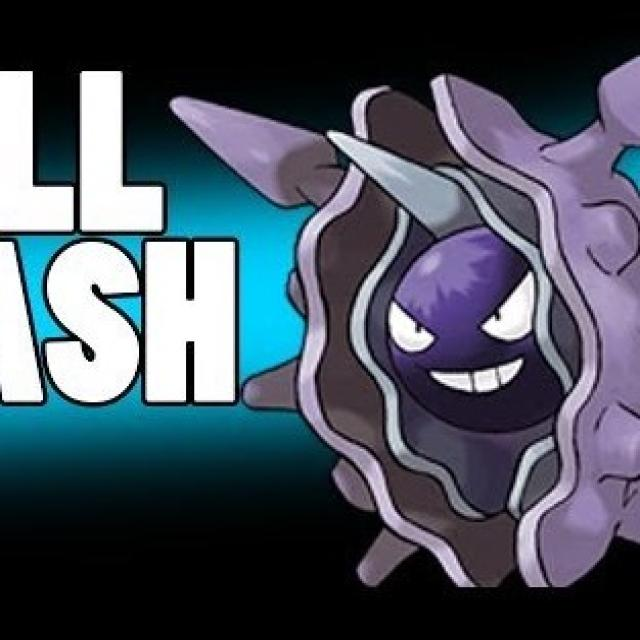Cloyster: (280, 74, 640, 584)
